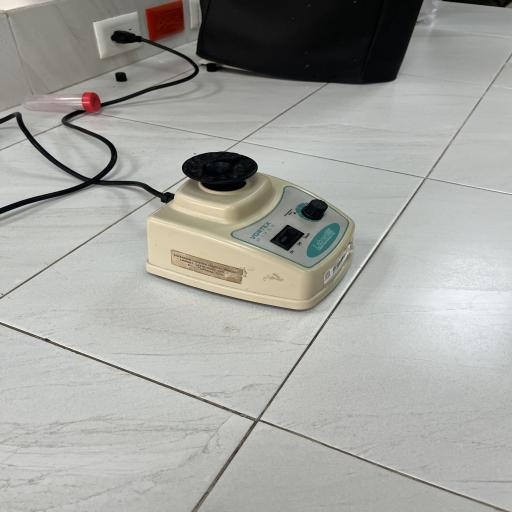Vortex_Mixer_LabNet: (117, 144, 389, 318)
